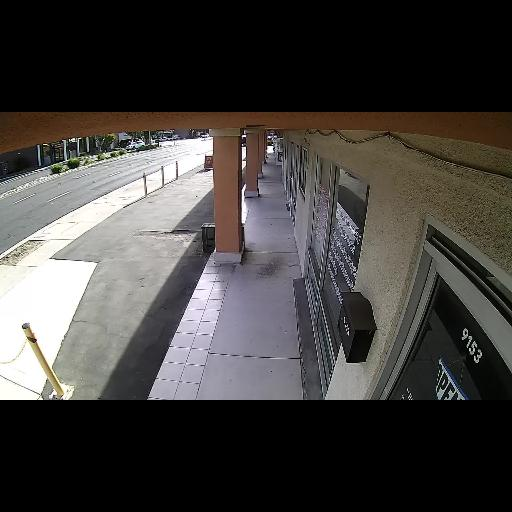car: (124, 140, 145, 153)
